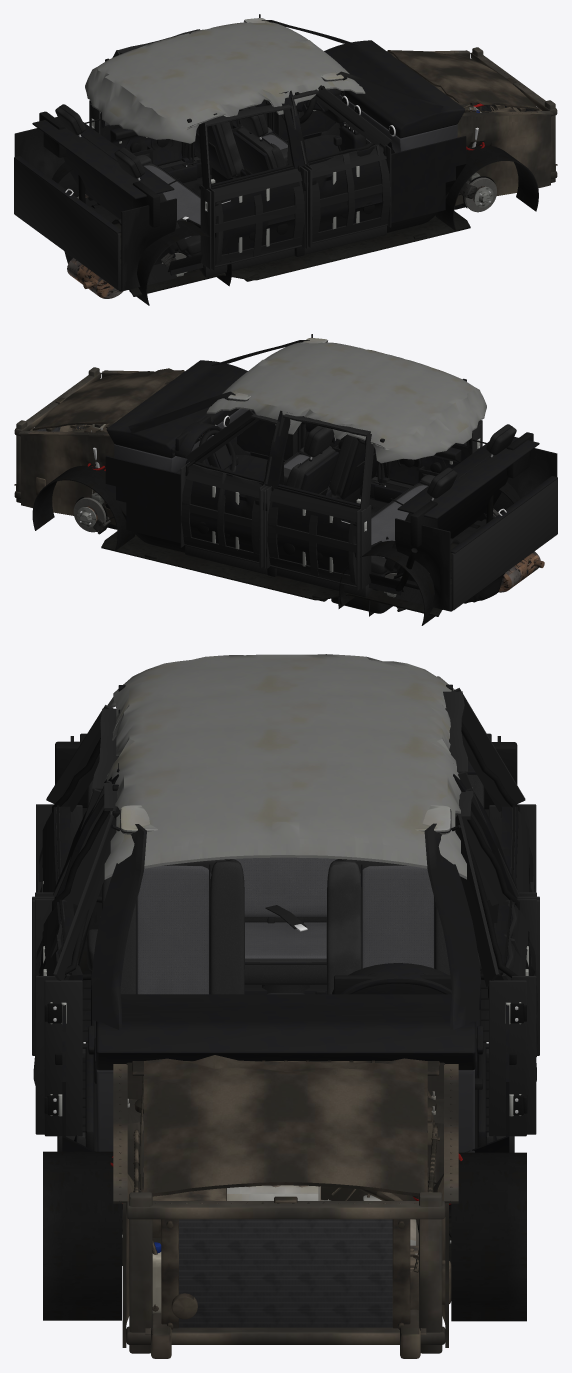
File: pampeiro_completo.glb
3 views of the same model, one above another, from view 1: azimuth 30°, elevation 25°; view 2: azimuth 150°, elevation 25°; view 3: azimuth 270°, elevation 25° (orthographic). The views are drawn at different scales.
Visible parts, largest first — view 1: interior_forro_teto, interior_portamalas_carpete, interior_painel, engine_paralama_interno_dir, door_card_rr_chapa, interior_banco_traseiro, interior_acabamento_pe_dir, door_card_fr_chapa, under_assoalho, hood_manta, door_card_rr, interior_portamalas_tampao (+22 smaller); view 2: interior_forro_teto, interior_portamalas_carpete, interior_painel, engine_paralama_interno_esq, door_card_rl_chapa, interior_banco_traseiro, interior_acabamento_pe_esq, door_card_fl_chapa, hood_manta, under_assoalho, door_card_rl, interior_portamalas_tampao (+22 smaller); view 3: interior_forro_teto, hood_manta, interior_painel, engine_radiador, engine_travessa, interior_banco_dianteiro_dir, interior_acabamento_colunas, under_caixa_roda_fr, under_caixa_roda_fl, interior_banco_dianteiro_esq, interior_banco_traseiro, jamb_fl_colunas (+28 smaller).
Part boxes in pixels (x1,y1,x2,y2): interior_forro_teto: (85,22,365,143); interior_portamalas_carpete: (14,128,176,291); interior_painel: (320,40,465,153); engine_paralama_interno_dir: (455,107,553,205); door_card_rr_chapa: (208,166,305,270); interior_banco_traseiro: (55,104,200,257); interior_acabamento_pe_dir: (391,136,466,223); door_card_fr_chapa: (305,144,391,246); under_assoalho: (114,211,470,296); hood_manta: (387,50,539,111); door_card_rr: (211,164,299,254); interior_portamalas_tampao: (32,117,174,199); interior_forro_teto: (206,342,486,463); interior_portamalas_carpete: (393,448,557,611); interior_painel: (106,360,254,473); engine_paralama_interno_esq: (18,427,116,525); door_card_rl_chapa: (266,486,363,590); interior_banco_traseiro: (371,424,516,577); interior_acabamento_pe_esq: (105,456,180,542); door_card_fl_chapa: (180,464,265,566); hood_manta: (32,368,184,431); under_assoalho: (101,531,457,616); door_card_rl: (272,484,360,574); interior_portamalas_tampao: (397,437,539,519); interior_forro_teto: (104,654,472,879); hood_manta: (143,1055,428,1196); interior_painel: (96,963,482,1152); engine_radiador: (161,1219,410,1329); engine_travessa: (126,1189,451,1353); interior_banco_dianteiro_dir: (88,859,244,1083); interior_acabamento_colunas: (54,763,517,1029); under_caixa_roda_fr: (43,1151,121,1320); under_caixa_roda_fl: (451,1152,526,1321); interior_banco_dianteiro_esq: (326,859,483,1078); interior_banco_traseiro: (87,774,484,994); jamb_fl_colunas: (455,788,539,1136).
Size of what is drawn, in the model's own units: 3.68 by 1.51 by 1.74.
55 materials, 55 textured.
